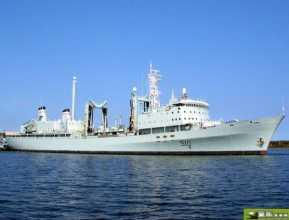warship: (4, 63, 286, 153)
